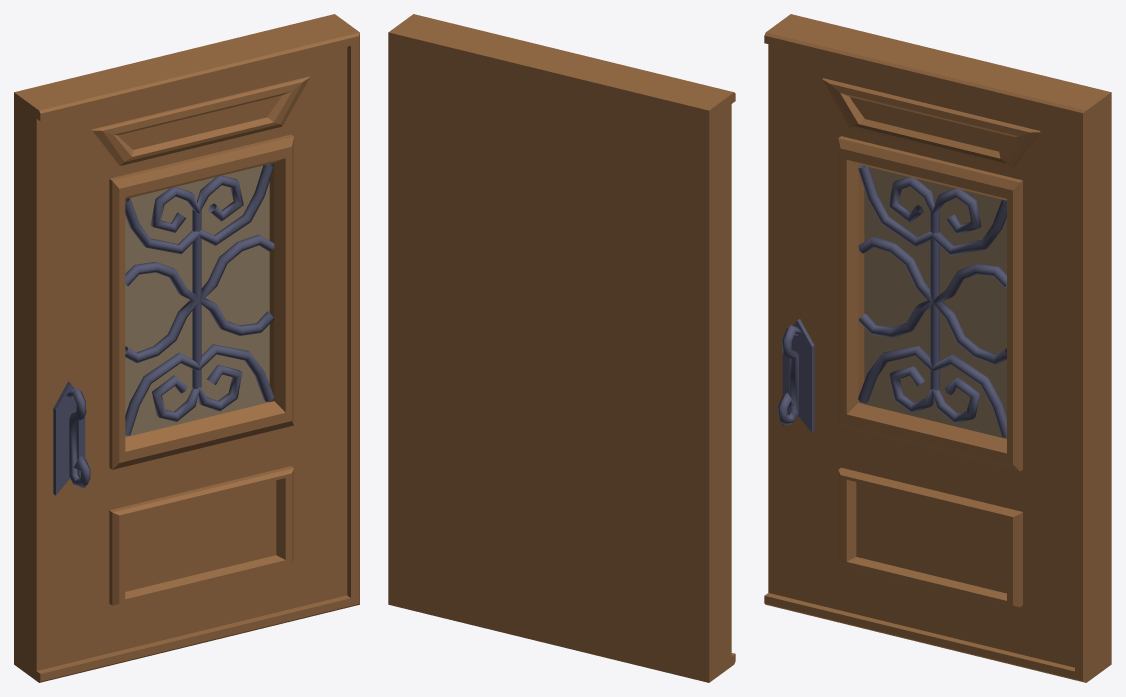
The model's file is RightDoubleDoor.fbx.
3 views of the same model, side by side, from view 1: azimuth 30°, elevation 25°; view 2: azimuth 150°, elevation 25°; view 3: azimuth 330°, elevation 25° (orthographic).
Parts seen in each view (by area): view 1: RightDoubleDoor; view 2: RightDoubleDoor; view 3: RightDoubleDoor.
Part boxes in pixels (x1,y1,x2,y2): RightDoubleDoor: (14, 14, 359, 682); RightDoubleDoor: (388, 14, 735, 682); RightDoubleDoor: (764, 14, 1111, 682).
Size of the model in its own units: 205 by 349 by 46.98.
Materials: 3 (2 with a texture image).
